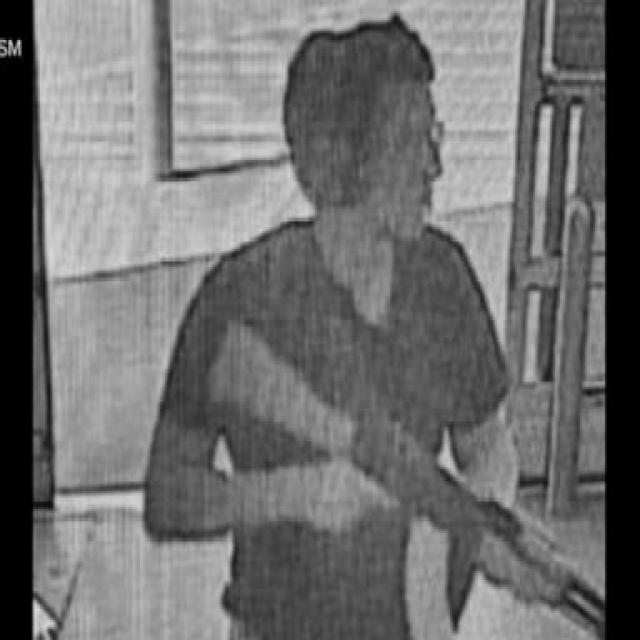gun: (209, 318, 603, 638)
